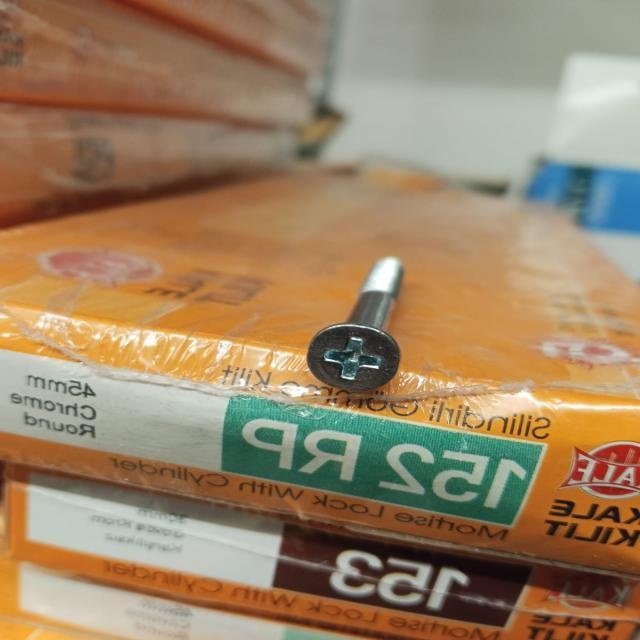phillips: (306, 325, 402, 393)
